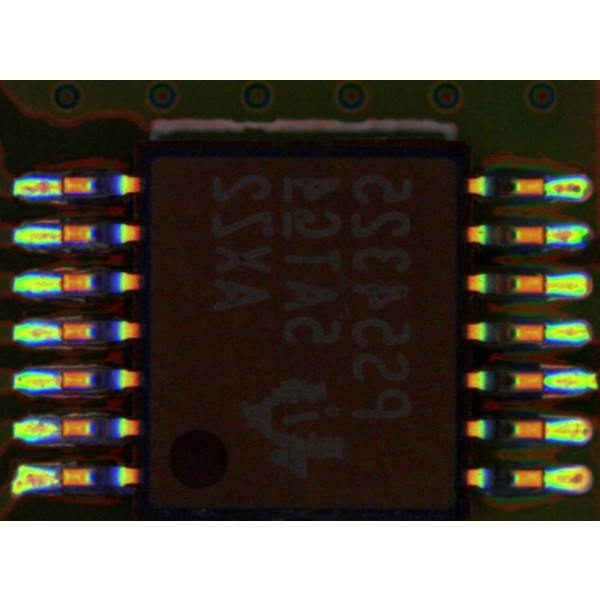Bad_podu: (531, 280, 566, 290), (42, 230, 76, 239), (46, 183, 73, 192)
